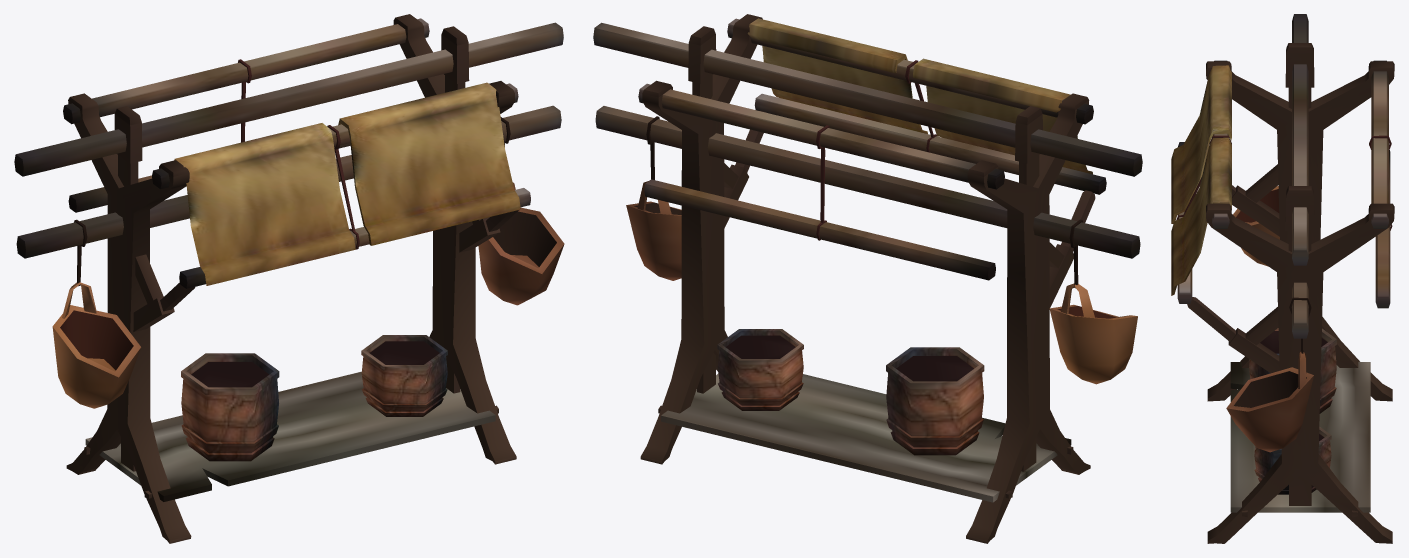
The model's file is TanningRack.glb.
The picture shows the model from 3 angles, left to right: view 1: azimuth 30°, elevation 25°; view 2: azimuth 150°, elevation 25°; view 3: azimuth 270°, elevation 25°; orthographic projection. The views are drawn at different scales.
Visible parts, largest first — view 1: Tanning Rack; view 2: Tanning Rack; view 3: Tanning Rack.
Part boxes in pixels (bbox=[...]): Tanning Rack: bbox=[14, 14, 564, 543]; Tanning Rack: bbox=[593, 14, 1142, 543]; Tanning Rack: bbox=[1171, 14, 1394, 543].
Bounding box in the file's own units: 3.37 × 2.34 × 1.35.
1 material, 1 textured.
